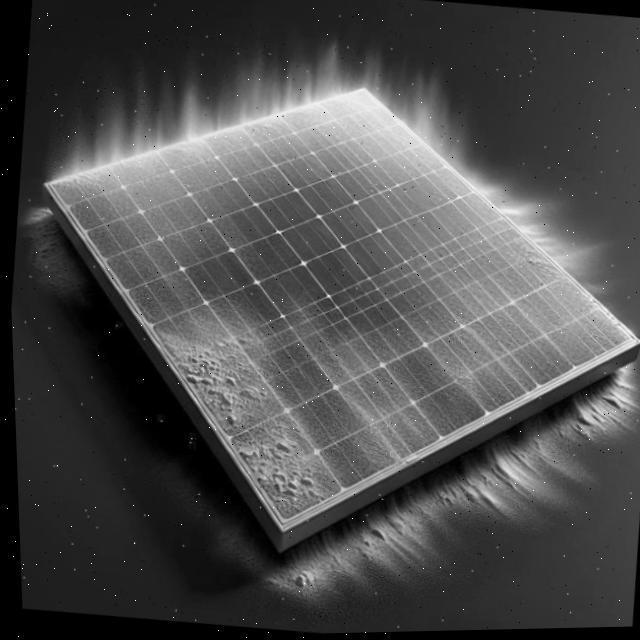Anomaly Solar Panel: (45, 0, 637, 563)
Surface Contaminant: (44, 0, 637, 565)
